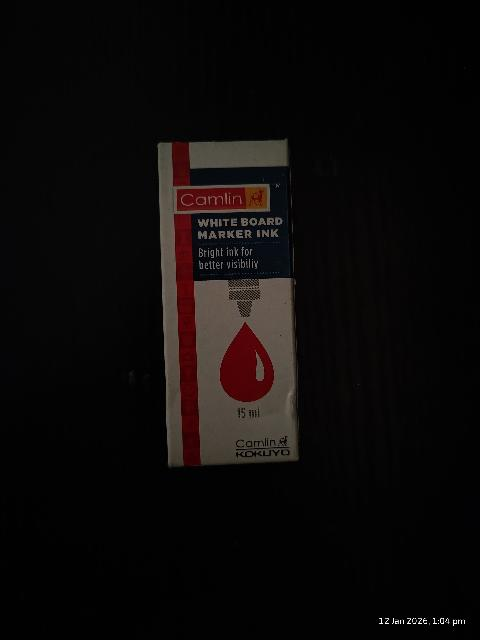camlin marker ink: (153, 147, 309, 472)
